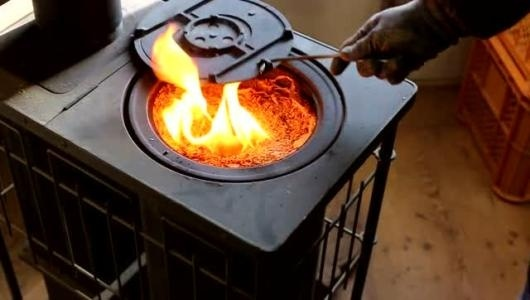fire: (146, 21, 272, 157)
